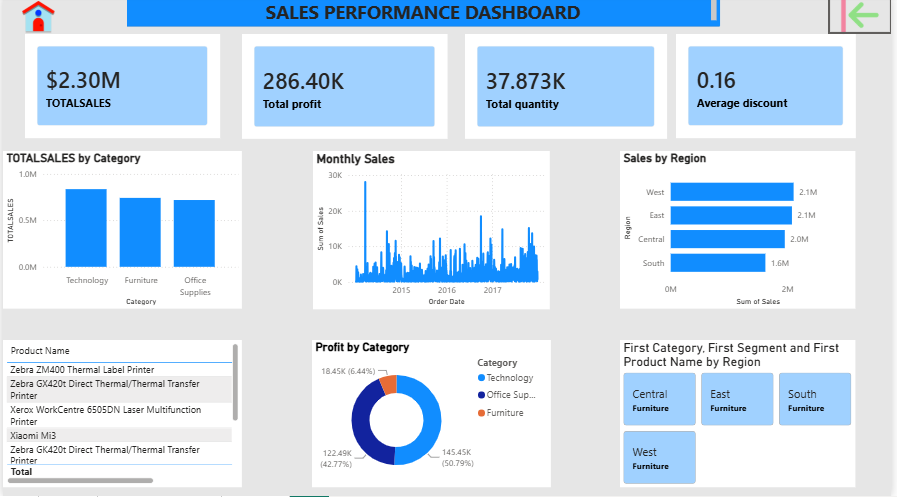

The dashboard page shown, as its layout file describes it:
{"tool":"powerbi","page":{"name":"KPI","canvas":[1280,720],"ordinal":1},"visuals":[{"type":"cardVisual","fields":{"Data":["ORDERS.TOTALSALES"]},"box":[31.9,55.4,280.5,149.5],"z":0},{"type":"cardVisual","fields":{"Data":["ORDERS.Total profit"]},"box":[344.4,55.4,295.6,151.2],"z":1000},{"type":"cardVisual","fields":{"Data":["ORDERS.Total quantity"]},"box":[665.2,55.4,290.6,151.2],"z":2000},{"type":"cardVisual","fields":{"Data":["ORDERS.Average discount"]},"box":[969.2,55.4,258.7,149.5],"z":3000},{"type":"columnChart","fields":{"Category":["PRODUCTS.Category"],"Y":["ORDERS.TOTALSALES"]},"box":[0,223.2,344.4,226.8],"z":4000},{"type":"lineChart","title":" Monthly Sales","fields":{"Category":["ORDERS.Order Date.Variation.Date Hierarchy.Month"],"Y":["Sum(ORDERS.Sales)"]},"box":[445.8,223.2,341.3,227.5],"z":5000},{"type":"clusteredBarChart","title":" Sales by Region","fields":{"Category":["CUSTOMER.Region"],"Y":["Sum(ORDERS.Sales)"]},"box":[888.6,223.2,339.3,226.8],"z":6000},{"type":"donutChart","title":"Profit by Category","fields":{"Category":["PRODUCTS.Category"],"Y":["Sum(ORDERS.Profit)"]},"box":[444.4,495.5,344.4,211.7],"z":7000},{"type":"tableEx","fields":{"Values":["PRODUCTS.Product Name","Sum(ORDERS.Sales)","Sum(ORDERS.Profit)"]},"box":[0,495.4,344.2,211.7],"z":8000},{"type":"shape","box":[178.1,0,853.3,43.7],"z":9000},{"type":"textbox","box":[178.6,0,853.9,43.2],"z":10000},{"type":"advancedSlicerVisual","fields":{"Label":["Min(PRODUCTS.Category)"],"Values":["CUSTOMER.Region"]},"box":[889,496,339,212],"z":11000},{"type":"image","box":[0,0,102.2,57.6],"z":12000},{"type":"image","box":[1199.5,0,69.1,54.7],"z":13000},{"type":"actionButton","box":[1188,0,92.2,54.7],"z":14000}]}

Visuals, with their boxes in screenshot pixels (x1, y1, x2, y2), scaled from the page's 1280x720 canvas onto the 897x497 screenshot:
cardVisual - ORDERS.TOTALSALES: <box>22,38,219,141</box>
cardVisual - ORDERS.Total profit: <box>241,38,448,143</box>
cardVisual - ORDERS.Total quantity: <box>466,38,670,143</box>
cardVisual - ORDERS.Average discount: <box>679,38,860,141</box>
columnChart - PRODUCTS.Category x ORDERS.TOTALSALES: <box>0,154,241,311</box>
" Monthly Sales" lineChart: <box>312,154,552,311</box>
" Sales by Region" clusteredBarChart: <box>623,154,860,311</box>
"Profit by Category" donutChart: <box>311,342,553,488</box>
tableEx - PRODUCTS.Product Name x Sum(ORDERS.Sales): <box>0,342,241,488</box>
shape: <box>125,0,723,30</box>
textbox: <box>125,0,724,30</box>
advancedSlicerVisual - Min(PRODUCTS.Category) x CUSTOMER.Region: <box>623,342,861,489</box>
image: <box>0,0,72,40</box>
image: <box>841,0,889,38</box>
actionButton: <box>833,0,896,38</box>
